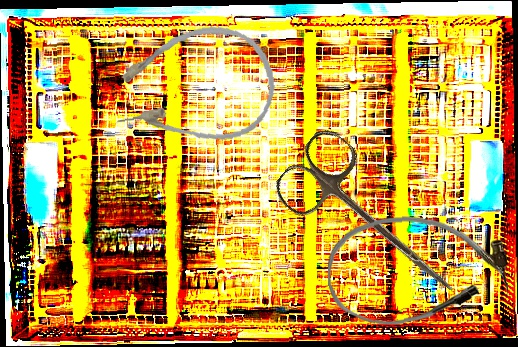Cannula: (105, 19, 281, 153), (326, 212, 509, 329)
Iris Scissors: (268, 123, 483, 321)
